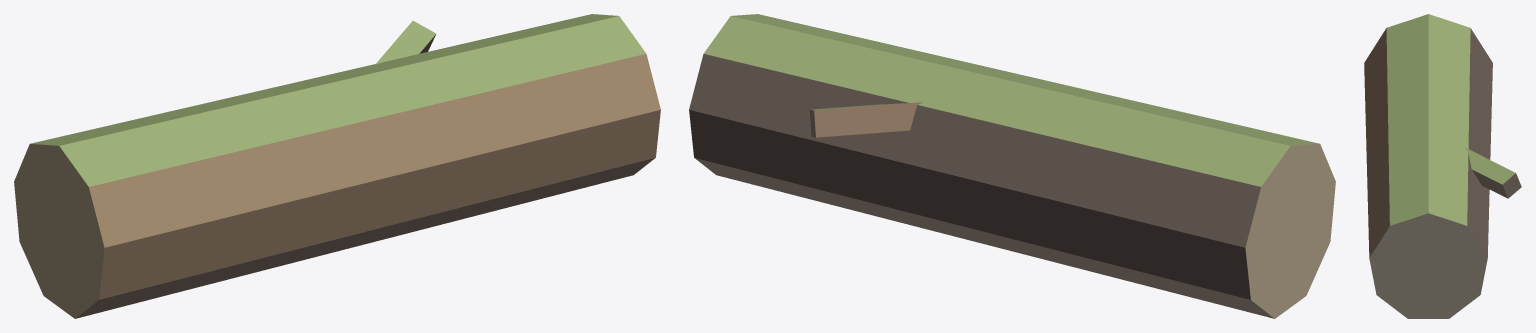
Rendered from log.glb.
The picture shows the model from 3 angles, left to right: view 1: azimuth 30°, elevation 25°; view 2: azimuth 150°, elevation 25°; view 3: azimuth 270°, elevation 25°; orthographic projection. The views are drawn at different scales.
Parts seen in each view (by area): view 1: log; view 2: log; view 3: log.
Part boxes in pixels (box(x1,y1,x2,y2)): log: box(14, 14, 660, 318); log: box(689, 14, 1335, 318); log: box(1364, 14, 1521, 318).
Bounding box in the file's own units: 1.9 × 0.5237 × 0.6509.
